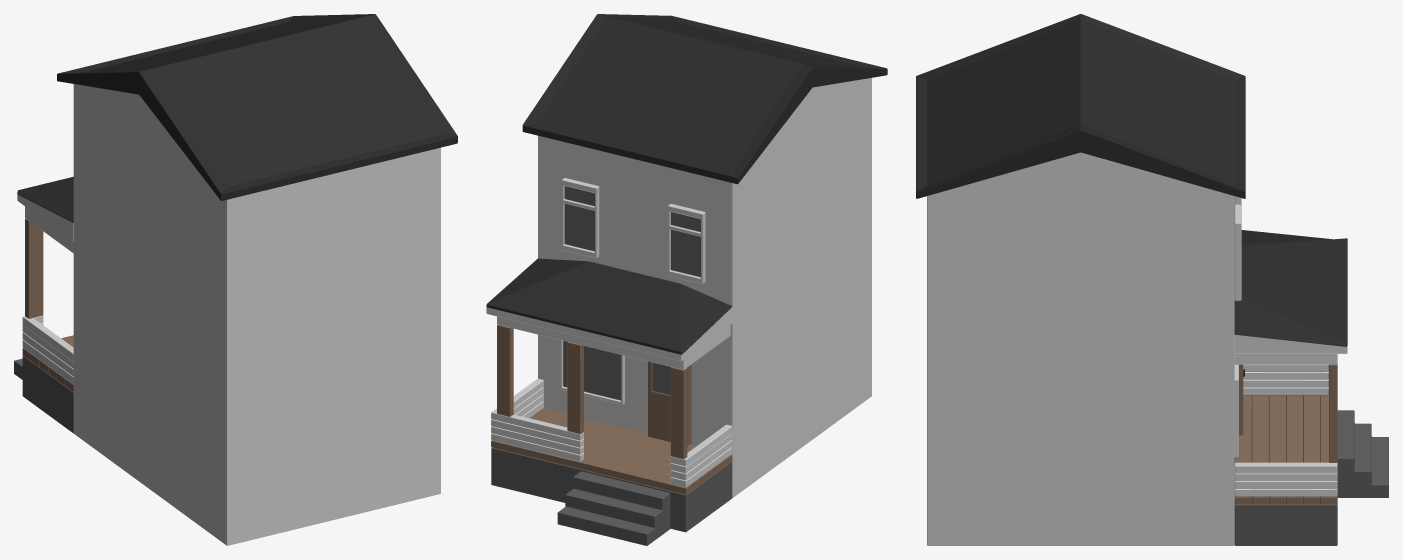
The model's file is housev2.fbx.
3 renders of one model, left to right at view 1: azimuth 30°, elevation 25°; view 2: azimuth 150°, elevation 25°; view 3: azimuth 270°, elevation 25°, orthographic. The views are drawn at different scales.
Parts seen in each view (by area): view 1: House_WV.002; view 2: House_WV.002; view 3: House_WV.002.
Part boxes in pixels (box(x1,y1,x2,y2)): House_WV.002: box(14, 14, 457, 545); House_WV.002: box(486, 14, 887, 545); House_WV.002: box(916, 14, 1388, 545).
Bounding box in the file's own units: 802 × 1359 × 1380.
